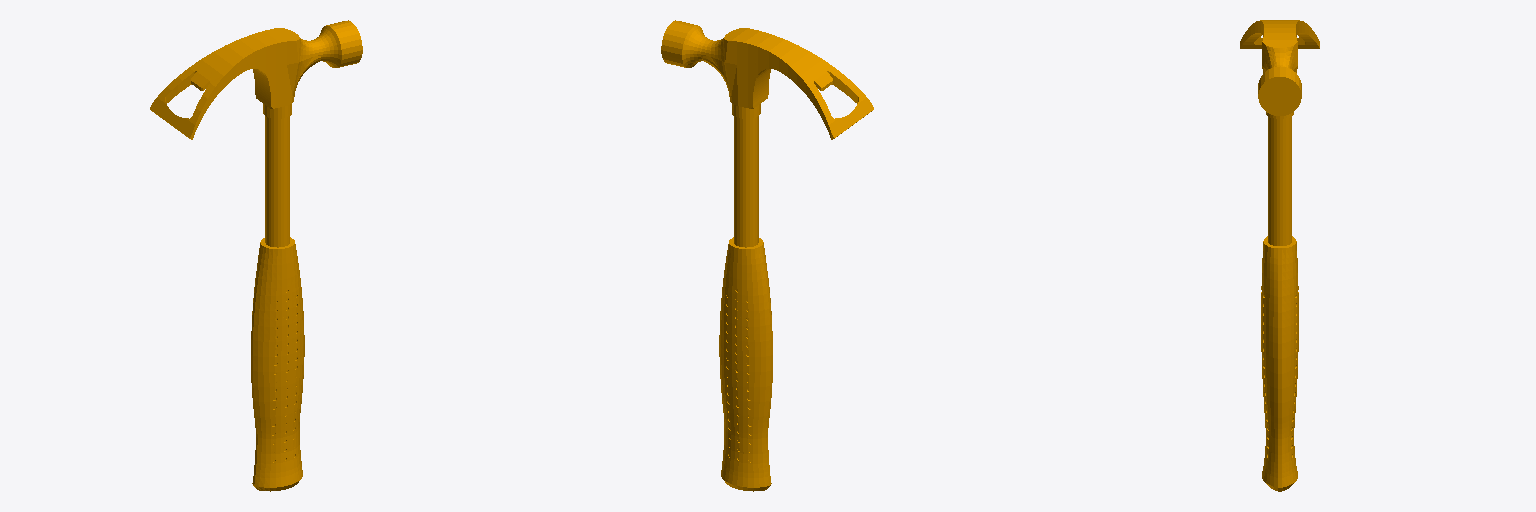
URDF robot description (hammer_03):
<?xml version="1.0"?>
<robot name="hammer_03">
  <link name="base_link">
    <inertial>
      <mass value="0.325" />
      <origin xyz="0 0 0" />
      <inertia  ixx="0.0002" ixy="0.0"  ixz="0.0"  iyy="0.0002"  iyz="0.0" izz="0.0002" />
    </inertial>
    <visual>
      <geometry>
        <mesh filename="assets/textured.obj" />
      </geometry>
    </visual>
    <collision>
      <geometry>
        <mesh filename="assets/textured.obj" />
      </geometry>
    </collision>
  </link>
</robot>

--- Facts derived from the render (not from the file) ---
Views: 3 orthographic renders of the robot side by side, from view 1: azimuth 30°, elevation 25°; view 2: azimuth 150°, elevation 25°; view 3: azimuth 270°, elevation 25°.
Robot: hammer_03 — 1 links, 0 joints (none); root link base_link; default pose: every joint at zero.
Visible links, largest first — view 1: base_link; view 2: base_link; view 3: base_link.
Link boxes in pixels (x1,y1,x2,y2): base_link: (150,20,362,491); base_link: (661,20,873,491); base_link: (1240,20,1319,491).
Size in the robot's own frame: 0.0991 by 0.0379 by 0.2333 metres.
Meshes: 1 distinct files referenced, 1 mesh visuals loaded (1 OBJ).